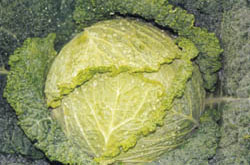cabbage: (44, 15, 207, 159)
